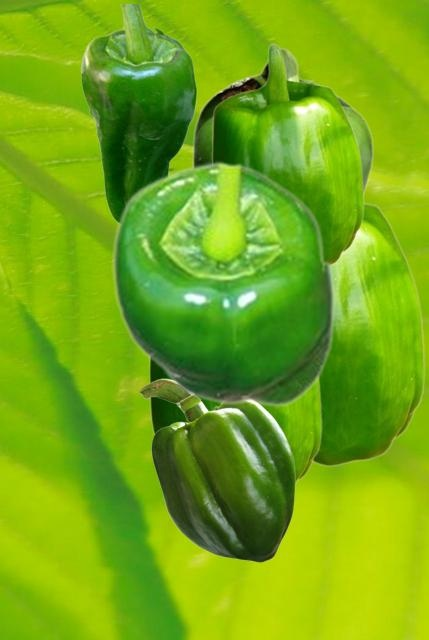bell_pepper: (110, 160, 335, 406), (211, 43, 363, 264), (313, 202, 424, 466), (138, 378, 294, 561), (191, 47, 373, 198), (80, 4, 196, 222), (148, 360, 321, 487)
